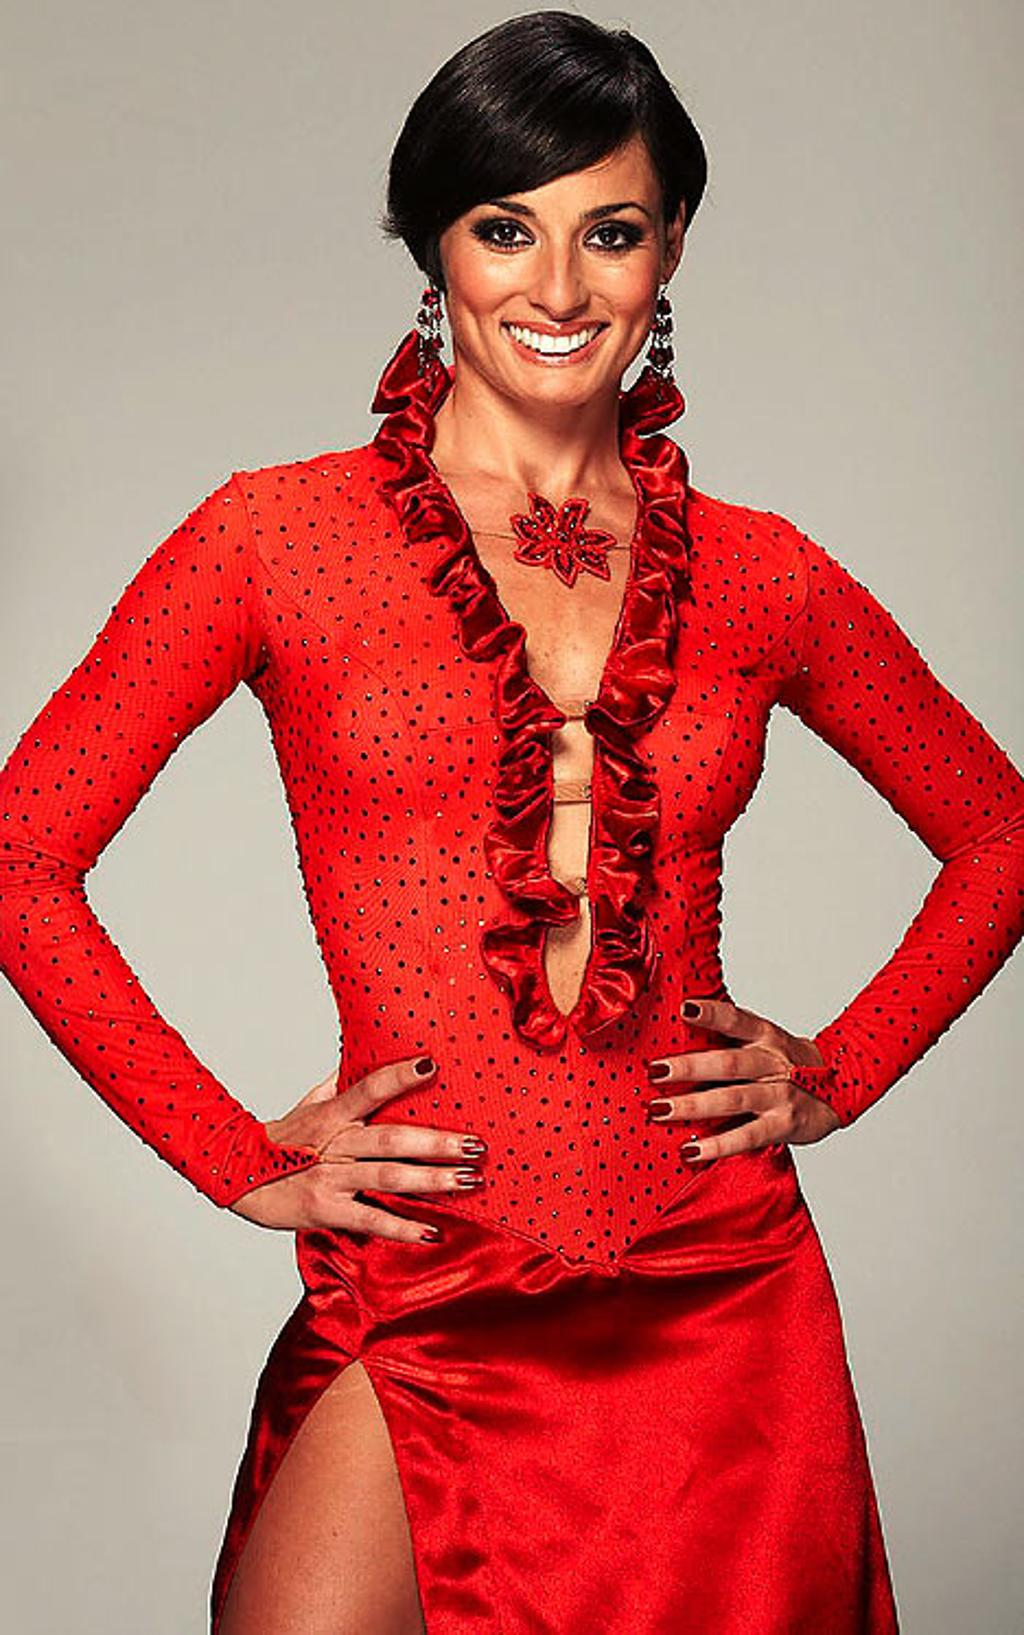face: (447, 137, 658, 405)
